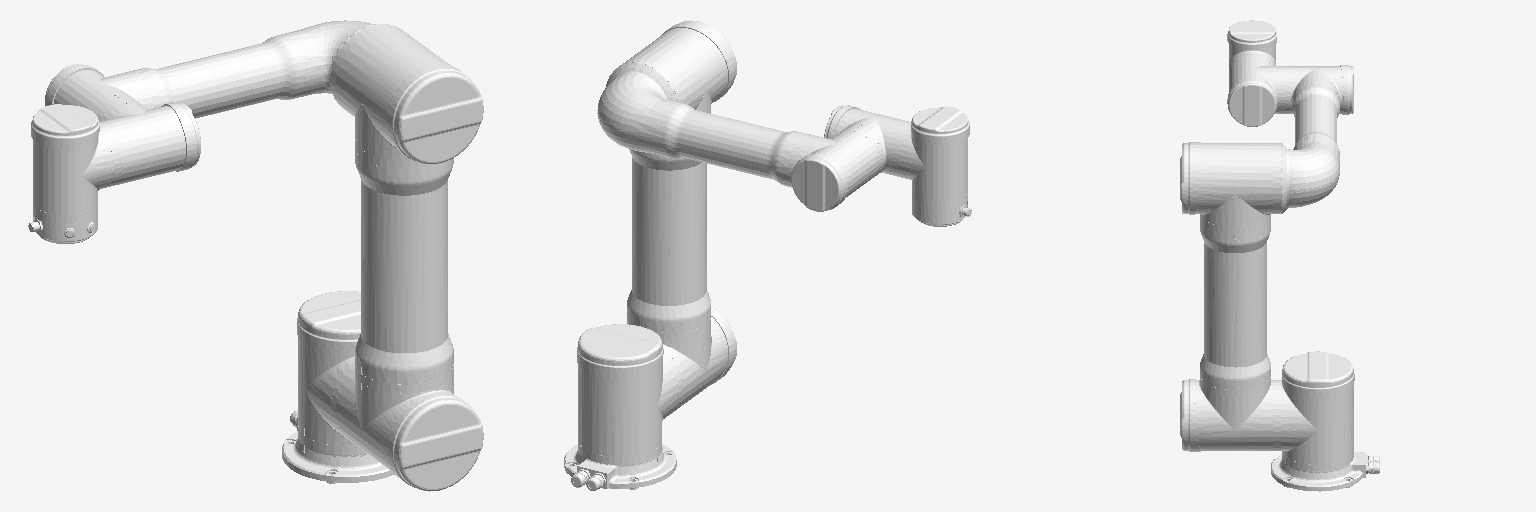
robot.urdf — TCR050:
<?xml version="1.0" encoding="utf-8"?>
<!-- This URDF was automatically created by SolidWorks to URDF Exporter! Originally created by Stephen Brawner (brawner@gmail.com) 
     Commit Version: 1.5.1-0-g916b5db  Build Version: 1.5.7152.31018
     For more information, please see http://wiki.ros.org/sw_urdf_exporter -->
<robot
  name="TCR050">
  <link
    name="base_link">
    <inertial>
      <origin
        xyz="5.6183E-06 0.0041848 0.022094"
        rpy="0 0 0" />
      <mass
        value="0.5937" />
      <inertia
        ixx="0.00092229"
        ixy="-1.2427E-07"
        ixz="5.0921E-09"
        iyy="0.00074441"
        iyz="1.241E-05"
        izz="0.001487" />
    </inertial>
    <visual>
      <origin
        xyz="0 0 0"
        rpy="0 0 0" />
      <geometry>
        <mesh
          filename="./meshes/base_link.STL" />
      </geometry>
      <material
        name="">
        <color
          rgba="1 1 1 1" />
      </material>
    </visual>
    <collision>
      <origin
        xyz="0 0 0"
        rpy="0 0 0" />
      <geometry>
        <mesh
          filename="./meshes/base_link.STL" />
      </geometry>
    </collision>
  </link>
  <link
    name="link1">
    <inertial>
      <origin
        xyz="-0.00934316252586657 2.98082383123899E-07 0.077245925367094"
        rpy="0 0 0" />
      <mass
        value="2.02047491224423" />
      <inertia
        ixx="0.00550362122549867"
        ixy="2.93235522041439E-08"
        ixz="-0.000248881350773848"
        iyy="0.00613876061425742"
        iyz="-5.39921512205308E-08"
        izz="0.00449475065086167" />
    </inertial>
    <visual>
      <origin
        xyz="0 0 0"
        rpy="0 0 0" />
      <geometry>
        <mesh
          filename="./meshes/link1.STL" />
      </geometry>
      <material
        name="">
        <color
          rgba="1 1 1 1" />
      </material>
    </visual>
    <collision>
      <origin
        xyz="0 0 0"
        rpy="0 0 0" />
      <geometry>
        <mesh
          filename="./meshes/link1.STL" />
      </geometry>
    </collision>
  </link>
  <joint
    name="joint1"
    type="revolute">
    <origin
      xyz="0 0 0.043"
      rpy="0 0 1.5708" />
    <parent
      link="base_link" />
    <child
      link="link1" />
    <axis
      xyz="0 0 1" />
    <limit
      lower="-3.14"
      upper="3.14"
      effort="100"
      velocity="1" />
  </joint>
  <link
    name="link2">
    <inertial>
      <origin
        xyz="0.0720133388358658 2.87034867013647E-07 -0.219749978259693"
        rpy="0 0 0" />
      <mass
        value="6.67962768871963" />
      <inertia
        ixx="0.0297875962789775"
        ixy="1.28627651652093E-07"
        ixz="5.18772136497091E-09"
        iyy="0.0330759387737247"
        iyz="2.25078226979871E-07"
        izz="0.0149651174006497" />
    </inertial>
    <visual>
      <origin
        xyz="0 0 0"
        rpy="0 0 0" />
      <geometry>
        <mesh
          filename="./meshes/link2.STL" />
      </geometry>
      <material
        name="">
        <color
          rgba="1 1 1 1" />
      </material>
    </visual>
    <collision>
      <origin
        xyz="0 0 0"
        rpy="0 0 0" />
      <geometry>
        <mesh
          filename="./meshes/link2.STL" />
      </geometry>
    </collision>
  </link>
  <joint
    name="joint2"
    type="revolute">
    <origin
      xyz="-0.075 0 0.064"
      rpy="-3.1416 0 3.1416" />
    <parent
      link="link1" />
    <child
      link="link2" />
    <axis
      xyz="1 0 0" />
    <limit
      lower="-3.14"
      upper="3.14"
      effort="100"
      velocity="1" />
  </joint>
  <link
    name="link3">
    <inertial>
      <origin
        xyz="-0.0641513660837637 0.16347325498242 8.60898297361246E-06"
        rpy="0 0 0" />
      <mass
        value="2.52519834297231" />
      <inertia
        ixx="0.0196327644832516"
        ixy="0.00232989835799296"
        ixz="3.83048800062288E-07"
        iyy="0.00324150550853782"
        iyz="2.27482514609767E-06"
        izz="0.0205540432024101" />
    </inertial>
    <visual>
      <origin
        xyz="0 0 0"
        rpy="0 0 0" />
      <geometry>
        <mesh
          filename="./meshes/link3.STL" />
      </geometry>
      <material
        name="">
        <color
          rgba="1 1 1 1" />
      </material>
    </visual>
    <collision>
      <origin
        xyz="0 0 0"
        rpy="0 0 0" />
      <geometry>
        <mesh
          filename="./meshes/link3.STL" />
      </geometry>
    </collision>
  </link>
  <joint
    name="joint3"
    type="revolute">
    <origin
      xyz="0 0 -0.4395"
      rpy="0 0 0" />
    <parent
      link="link2" />
    <child
      link="link3" />
    <axis
      xyz="1 0 0" />
    <limit
      lower="-3.14"
      upper="3.14"
      effort="100"
      velocity="1" />
  </joint>
  <link
    name="link4">
    <inertial>
      <origin
        xyz="0.036422568204088 -0.00621410103328357 8.1574342691848E-07"
        rpy="0 0 0" />
      <mass
        value="0.687607539328445" />
      <inertia
        ixx="0.000910086872861704"
        ixy="3.66666277551703E-05"
        ixz="1.7403918217511E-08"
        iyy="0.000738975681859274"
        iyz="-5.57800317384983E-09"
        izz="0.00106558830952582" />
    </inertial>
    <visual>
      <origin
        xyz="0 0 0"
        rpy="0 0 0" />
      <geometry>
        <mesh
          filename="./meshes/link4.STL" />
      </geometry>
      <material
        name="">
        <color
          rgba="1 1 1 1" />
      </material>
    </visual>
    <collision>
      <origin
        xyz="0 0 0"
        rpy="0 0 0" />
      <geometry>
        <mesh
          filename="./meshes/link4.STL" />
      </geometry>
    </collision>
  </link>
  <joint
    name="joint4"
    type="revolute">
    <origin
      xyz="-0.0095 0.353 0"
      rpy="0 0 0" />
    <parent
      link="link3" />
    <child
      link="link4" />
    <axis
      xyz="1 0 0" />
    <limit
      lower="-3.14"
      upper="3.14"
      effort="100"
      velocity="1" />
  </joint>
  <link
    name="link5">
    <inertial>
      <origin
        xyz="-1.7365846341072E-06 0.048423418980112 -0.00621410103328368"
        rpy="0 0 0" />
      <mass
        value="0.687607539328445" />
      <inertia
        ixx="0.00106562115962841"
        ixy="-1.49818800496001E-08"
        ixz="3.20395100783392E-08"
        iyy="0.000910063630958631"
        iyz="3.663634358389E-05"
        izz="0.000738985290058806" />
    </inertial>
    <visual>
      <origin
        xyz="0 0 0"
        rpy="0 0 0" />
      <geometry>
        <mesh
          filename="./meshes/link5.STL" />
      </geometry>
      <material
        name="">
        <color
          rgba="1 1 1 1" />
      </material>
    </visual>
    <collision>
      <origin
        xyz="0 0 0"
        rpy="0 0 0" />
      <geometry>
        <mesh
          filename="./meshes/link5.STL" />
      </geometry>
    </collision>
  </link>
  <joint
    name="joint5"
    type="revolute">
    <origin
      xyz="0.045 0.0505 0"
      rpy="0 0 0" />
    <parent
      link="link4" />
    <child
      link="link5" />
    <axis
      xyz="0 1 0" />
    <limit
      lower="-3.14"
      upper="3.14"
      effort="100"
      velocity="1" />
  </joint>
  <link
    name="link6">
    <inertial>
      <origin
        xyz="6.7555613961004E-05 -6.0785332471891E-06 0.00655405652337415"
        rpy="0 0 0" />
      <mass
        value="0.213014605136884" />
      <inertia
        ixx="0.000112026938738419"
        ixy="-5.29795883451615E-09"
        ixz="-1.28785309782885E-07"
        iyy="0.000115375613407327"
        iyz="5.69665499700145E-07"
        izz="0.000164441000775395" />
    </inertial>
    <visual>
      <origin
        xyz="0 0 0"
        rpy="0 0 0" />
      <geometry>
        <mesh
          filename="./meshes/link6.STL" />
      </geometry>
      <material
        name="">
        <color
          rgba="1 1 1 1" />
      </material>
    </visual>
    <collision>
      <origin
        xyz="0 0 0"
        rpy="0 0 0" />
      <geometry>
        <mesh
          filename="./meshes/link6.STL" />
      </geometry>
    </collision>
  </link>
  <joint
    name="joint6"
    type="revolute">
    <origin
      xyz="0 0.057 0.0625"
      rpy="0 0 0" />
    <parent
      link="link5" />
    <child
      link="link6" />
    <axis
      xyz="0 0 1" />
    <limit
      lower="-3.14"
      upper="3.14"
      effort="100"
      velocity="1" />
  </joint>
</robot>

--- Facts derived from the render (not from the file) ---
Views: 3 orthographic renders of the robot side by side, from view 1: azimuth 30°, elevation 25°; view 2: azimuth 150°, elevation 25°; view 3: azimuth 270°, elevation 25°.
Robot: TCR050 — 7 links, 6 joints (6 revolute); root link base_link; default pose: all joints at 0.
Visible links, largest first — view 1: link2, link3, link5, link1, link4, base_link, link6; view 2: link2, link3, link1, link5, base_link, link4, link6; view 3: link2, link3, link1, link4, base_link, link5.
Boxes of the visible links, x1=… form: link2: x1=336, y1=28, x2=483, y2=491; link3: x1=45, y1=20, x2=405, y2=118; link5: x1=31, y1=104, x2=121, y2=214; link1: x1=297, y1=291, x2=360, y2=445; link4: x1=97, y1=98, x2=200, y2=184; base_link: x1=282, y1=410, x2=394, y2=483; link6: x1=28, y1=204, x2=97, y2=243; link2: x1=623, y1=20, x2=736, y2=410; link3: x1=597, y1=59, x2=878, y2=211; link1: x1=577, y1=324, x2=682, y2=456; link5: x1=891, y1=106, x2=969, y2=201; base_link: x1=564, y1=442, x2=676, y2=490; link4: x1=824, y1=105, x2=908, y2=177; link6: x1=912, y1=192, x2=971, y2=226; link2: x1=1180, y1=142, x2=1272, y2=451; link3: x1=1273, y1=65, x2=1353, y2=213; link1: x1=1273, y1=351, x2=1354, y2=464; link4: x1=1227, y1=56, x2=1285, y2=126; base_link: x1=1271, y1=451, x2=1379, y2=491; link5: x1=1227, y1=20, x2=1276, y2=71.
Size in the robot's own frame: 0.5894 by 0.3353 by 0.6098 metres.
Meshes: 7 distinct files referenced, 7 mesh visuals loaded (7 binary STL).
